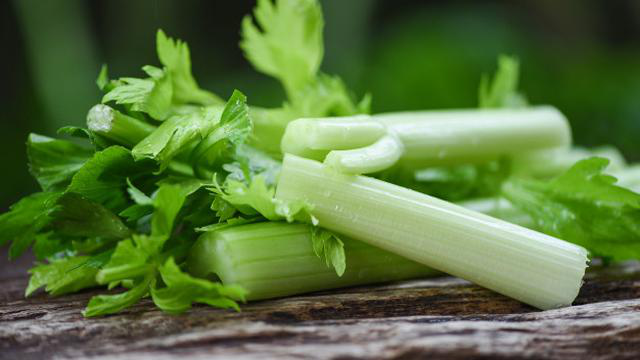Seledri: (57, 71, 601, 338)
